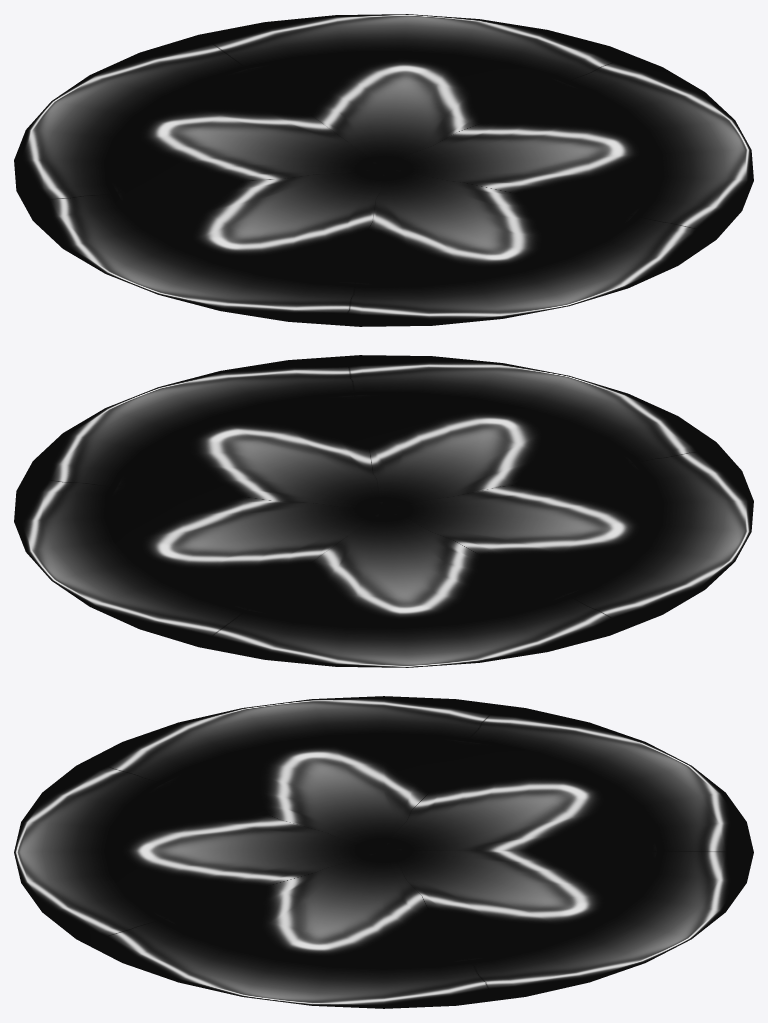
The model's file is Ef_Ring_00.fbx.
The picture shows the model from 3 angles, top to bottom: view 1: azimuth 30°, elevation 25°; view 2: azimuth 150°, elevation 25°; view 3: azimuth 270°, elevation 25°; orthographic projection.
Parts seen in each view (by area): view 1: Sphere001; view 2: Sphere001; view 3: Sphere001.
Boxes of the visible parts, x1,y1,x2,y2 form: Sphere001: (14, 14, 753, 326); Sphere001: (14, 355, 753, 667); Sphere001: (14, 696, 753, 1008).
Bounding box in the file's own units: 87.79 × 0.2634 × 87.79.
